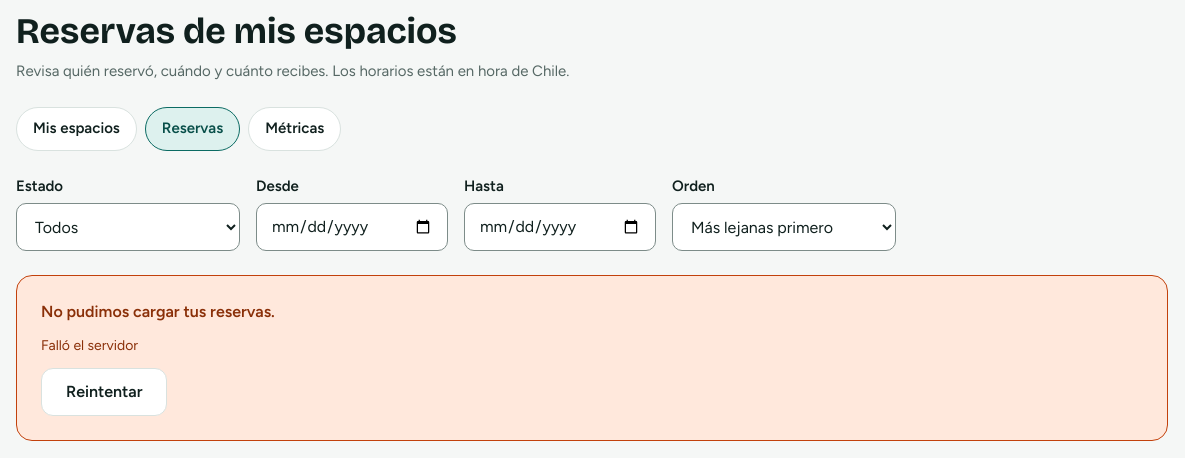
Scenario: OwnerBookingsPage (PN-02) › estados vacíos y errores › si falla la carga muestra el error y deja reintentar
Expected: the message shows "No pudimos cargar tus reservas.", [41,302,275,321]
Step 1. Click the button "Reintentar" → (104,392), box [41,368,168,416]
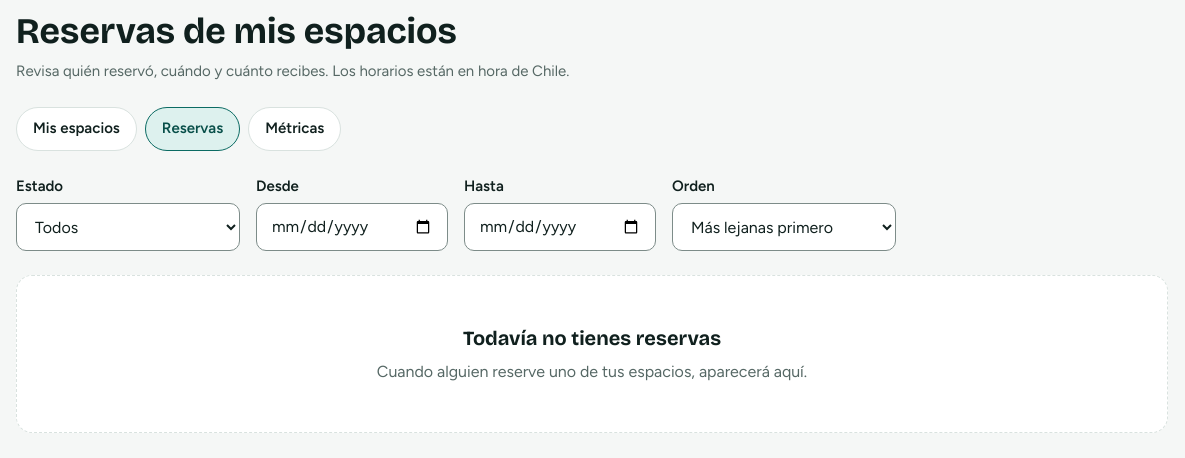
Expected: the heading "Todavía no tienes reservas" is shown, [463,326,721,350]
